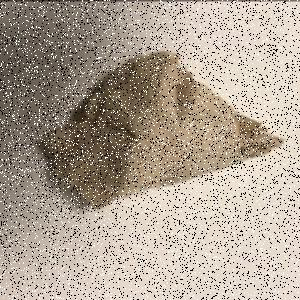Trash: (44, 51, 286, 212)
